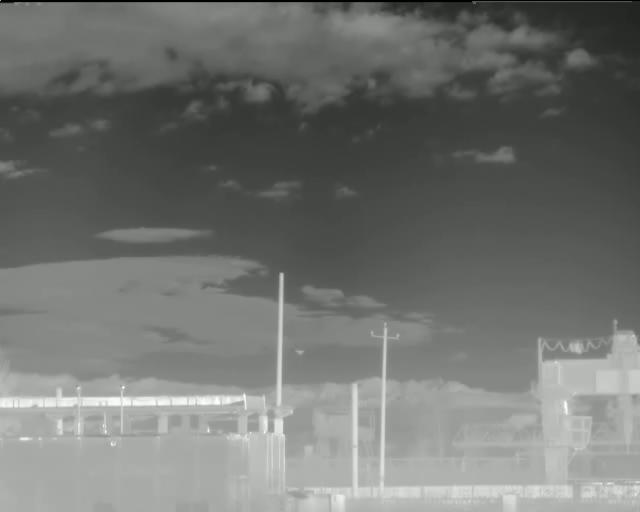uav: (294, 349, 307, 358)
